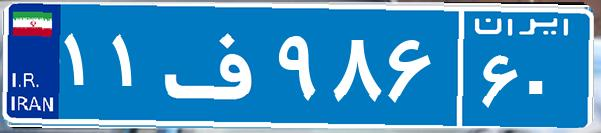0: (525, 38, 570, 115)
1: (57, 26, 110, 107), (110, 28, 158, 105)
6: (385, 28, 445, 110), (475, 38, 525, 113)
8: (330, 28, 385, 110)
9: (273, 28, 330, 110)
ف: (158, 15, 273, 115)
